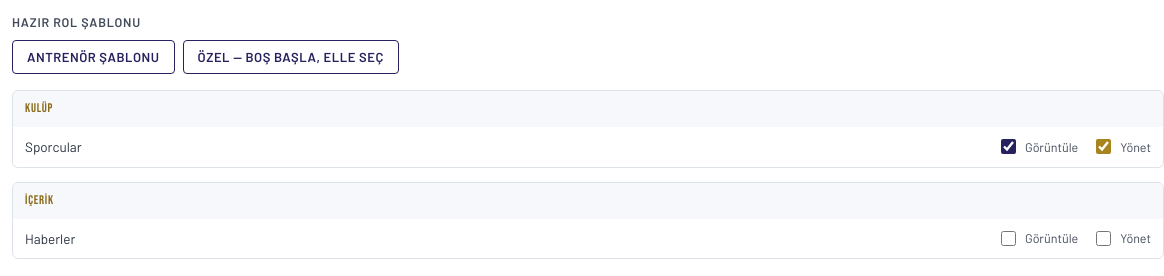
Test case: PermissionMatrix › 'Görüntüle' kaldırılınca 'Yönet' de kalkar (manage view'ı ima eder)
Expected: the checkbox with test id "perm-sporcular-manage" is checked, left=1096, top=139, right=1111, bottom=154
Click the checkbox with test id "perm-sporcular-view": point(1008, 147) left=1001, top=139, right=1016, bottom=154
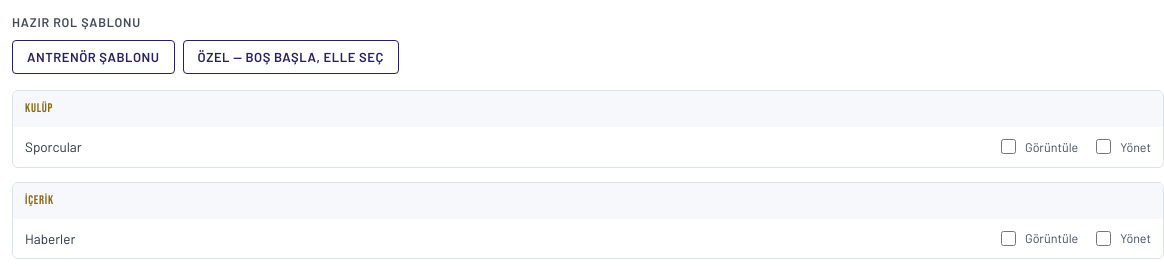
Result: the checkbox with test id "perm-sporcular-view" is not checked at left=1001, top=139, right=1016, bottom=154
Result: the checkbox with test id "perm-sporcular-manage" is not checked at left=1096, top=139, right=1111, bottom=154
